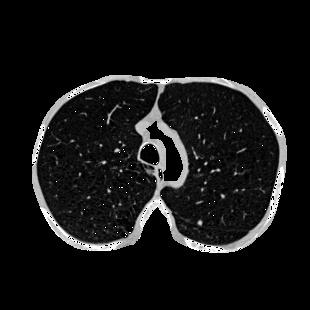PN: (198, 221, 202, 225)
